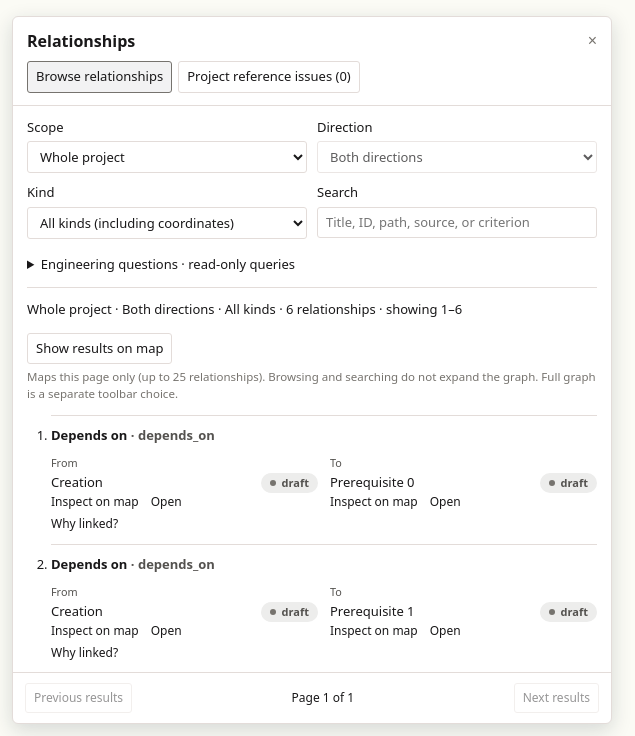
Test: bounded project relationships › filters selected results by canonical direction rather than dependency-arrow layout
Select "Selected item" in the dropdown named "Result scope": (167, 157) [27,141,307,173]
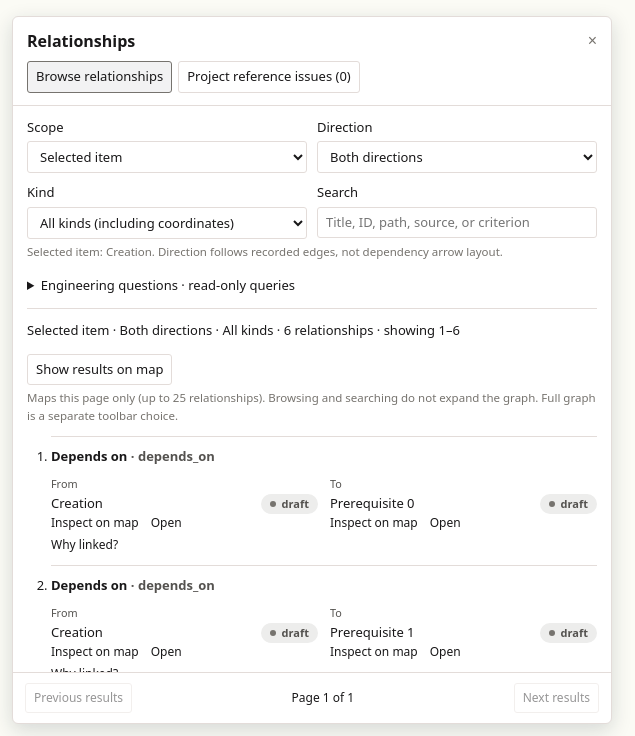
Select "To selected / query start" in the dropdown named "Result direction": (457, 157) [317,141,597,173]
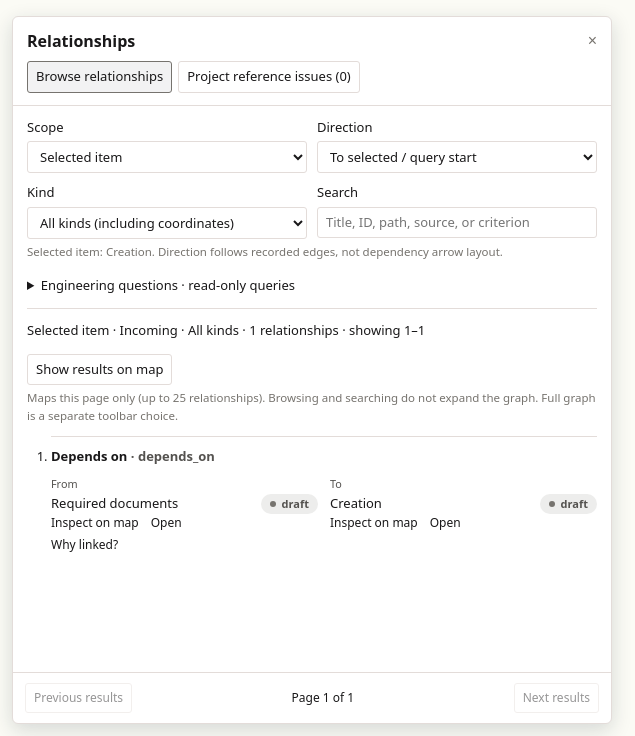
Expected: the button with aria-label "Inspect on map: Required documents" is shown, [51,514,139,532]
Expected: the text "Selected item · Incoming · All kinds · 1 relationships · showing 1–1" is shown, [27,308,597,341]
Select "From selected / query start" in the dropdown named "Result direction": (457, 157) [317,141,597,173]
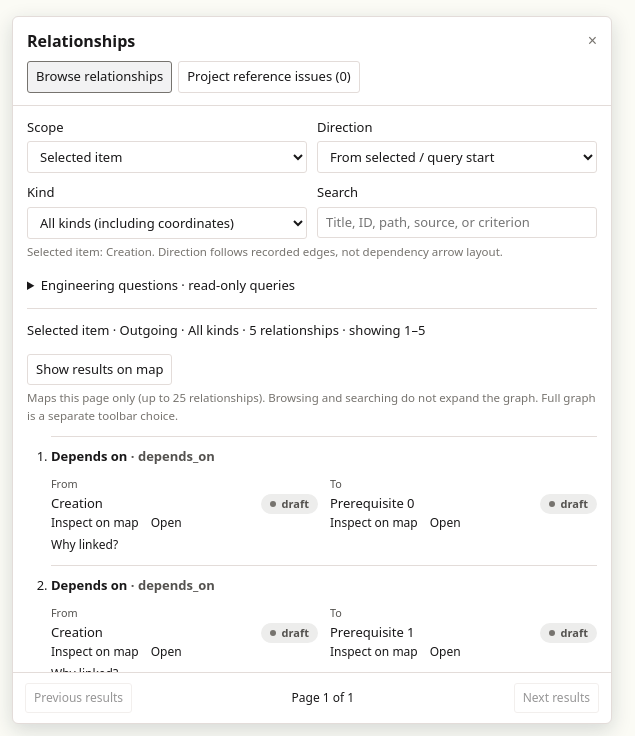
Expected: the text "Selected item · Outgoing · All kinds · 5 relationships · showing 1–5" is shown, [27,308,597,341]
